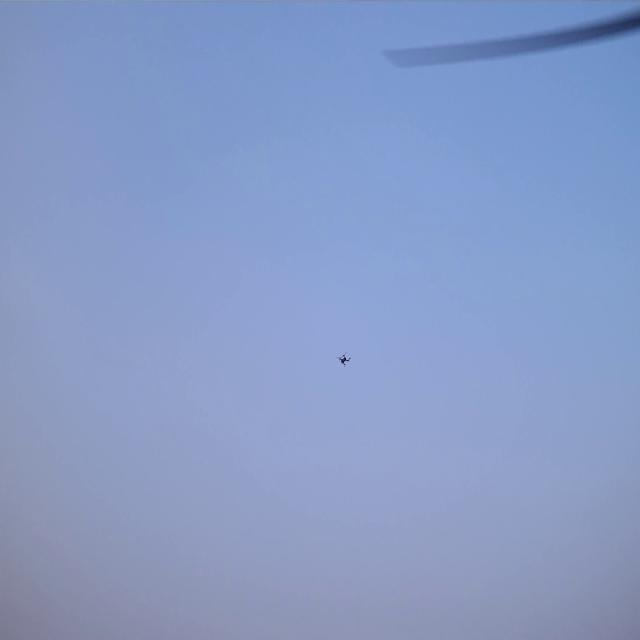UAV: (338, 350, 350, 367)
